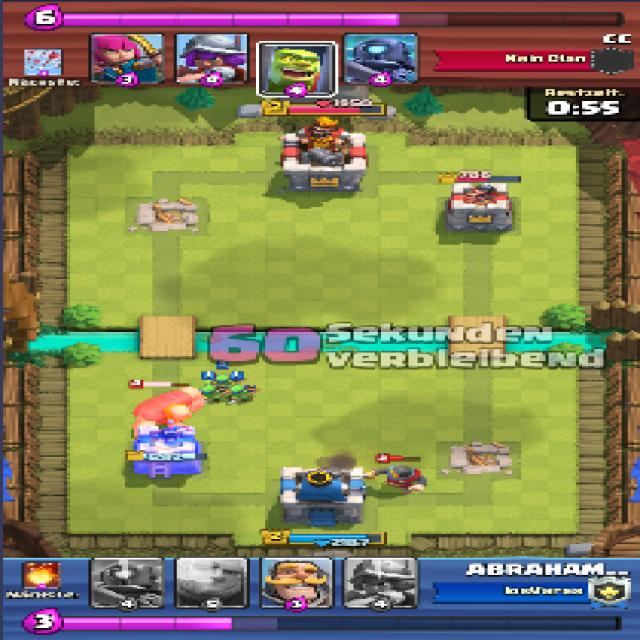Enemy-Giant: (125, 386, 208, 427)
Enemy-Knight: (368, 463, 428, 493)
Player-SpearGoblin: (196, 384, 223, 402), (227, 386, 255, 402), (213, 372, 235, 392)
